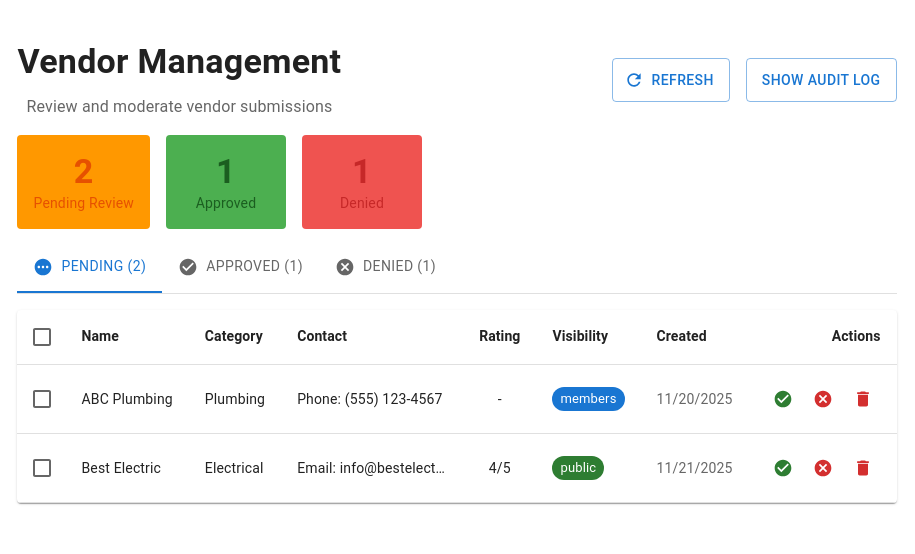
Test: VendorManagement - Role Gating › Admin Access › allows bulk selection and approval of vendors
expect the text "ABC Plumbing" is shown: met, box 82,389 -> 173,409
// Select first vendor checkbox
Click the checkbox labelled "ABC Plumbing": point(42, 399) 30,387 -> 54,411
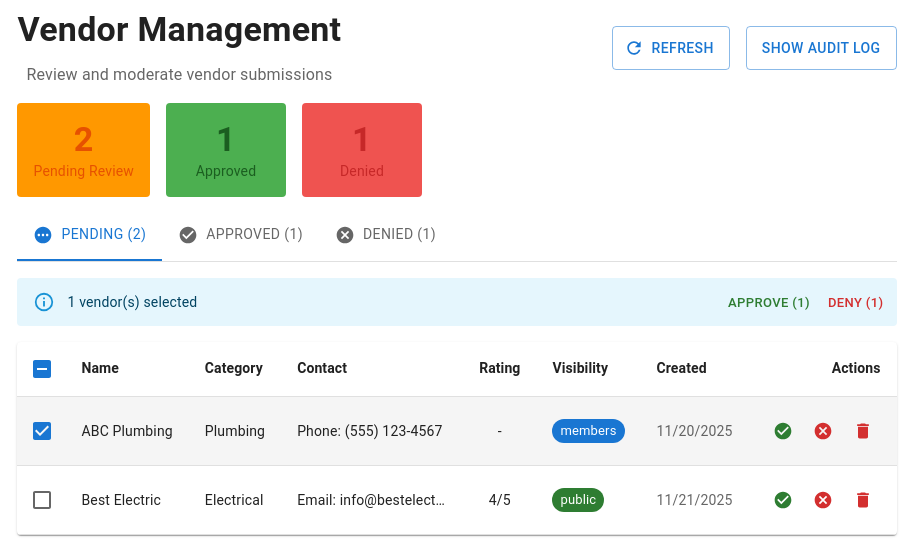
expect the text "1 vendor(s) selected" is shown: met, box 68,294 -> 197,310
expect the button "Approve (1)" is shown: met, box 723,288 -> 815,319
